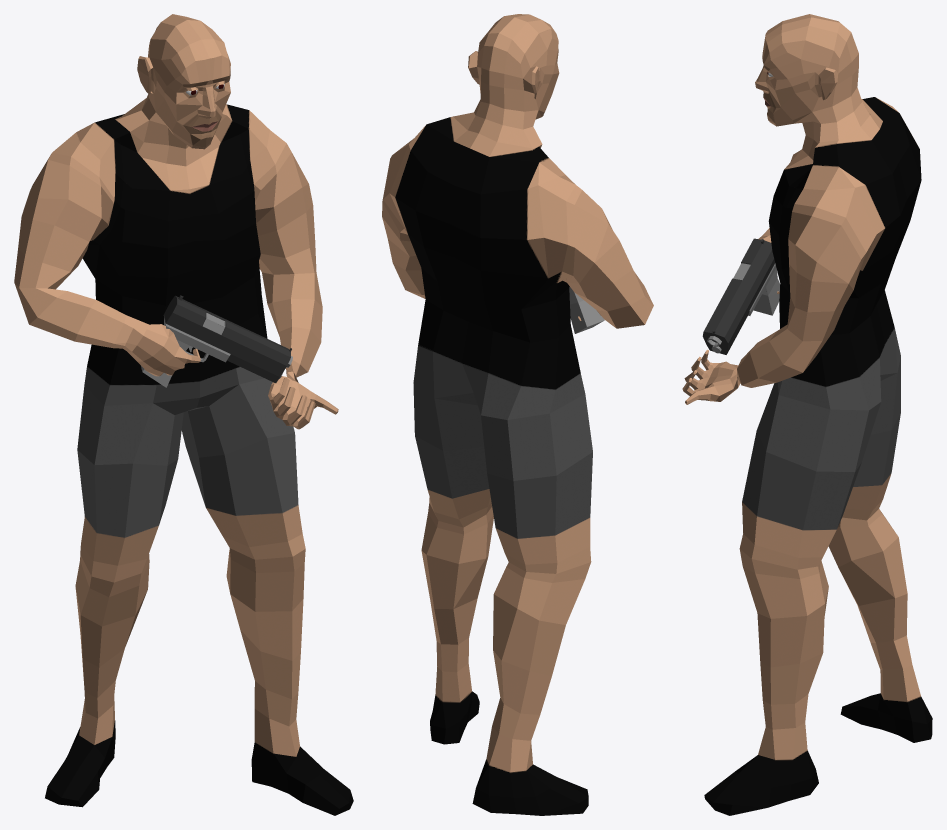
Rendered from PlayerIdle(37).obj.
3 renders of one model, left to right at view 1: azimuth 30°, elevation 25°; view 2: azimuth 150°, elevation 25°; view 3: azimuth 270°, elevation 25°, orthographic. The views are drawn at different scales.
Visible parts, largest first — view 1: Plane002, Box003; view 2: Plane002, Box003; view 3: Plane002, Box003.
Boxes of the visible parts, <box> form: Plane002: <box>14,14,353,815</box>; Box003: <box>141,295,292,387</box>; Plane002: <box>382,14,653,815</box>; Box003: <box>569,286,604,333</box>; Plane002: <box>682,14,932,815</box>; Box003: <box>702,238,780,354</box>.
Bounding box in the file's own units: 675 × 1807 × 552.
